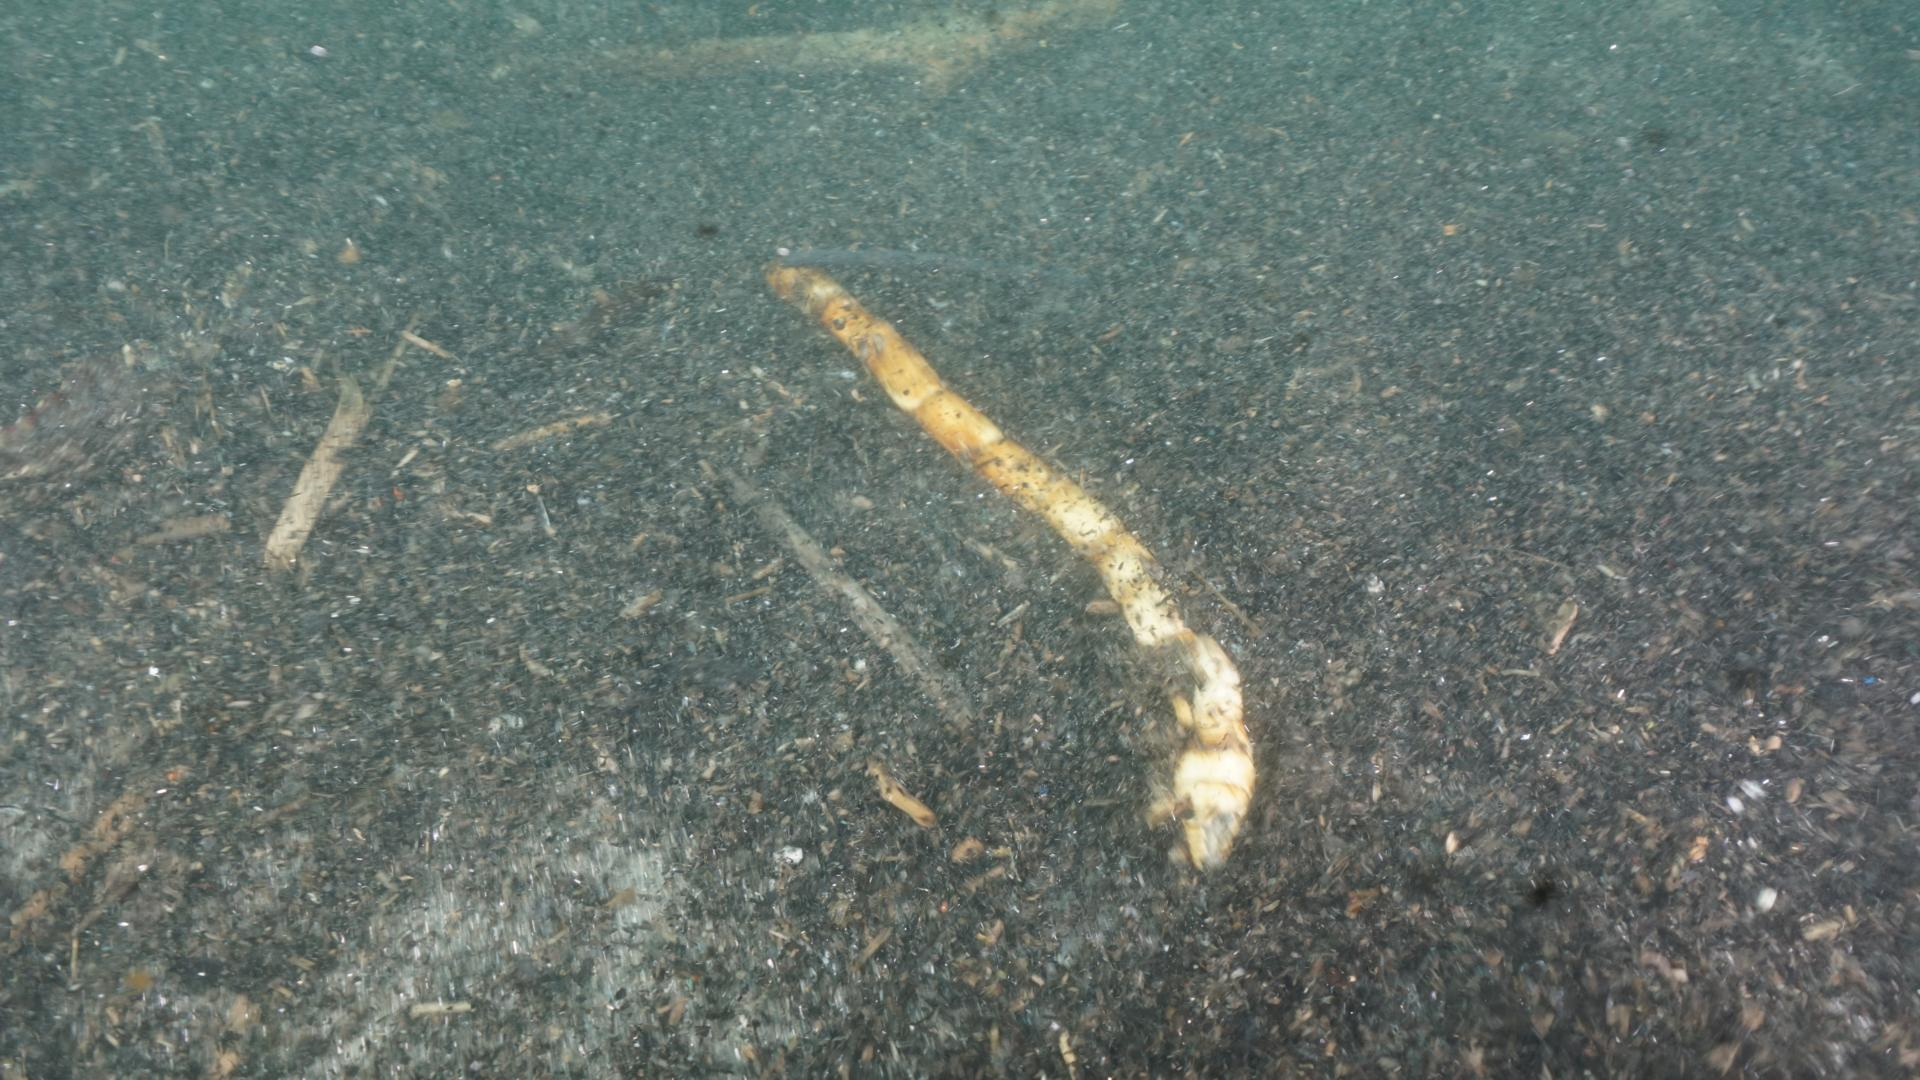wood: (754, 258, 1258, 868)
